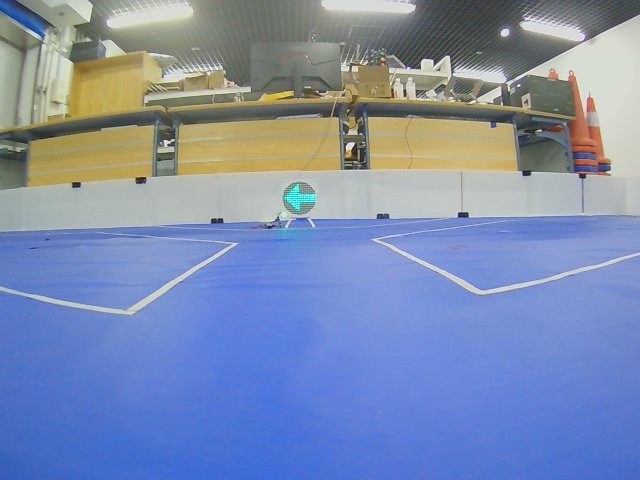left_green: (282, 182, 316, 215)
